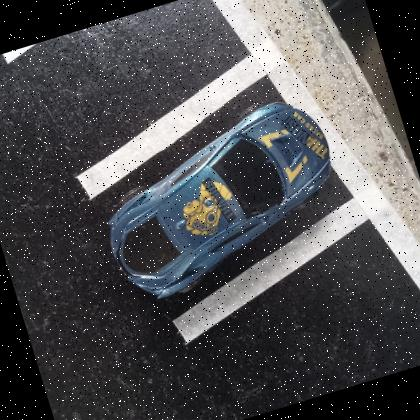Car: (108, 100, 333, 301)
